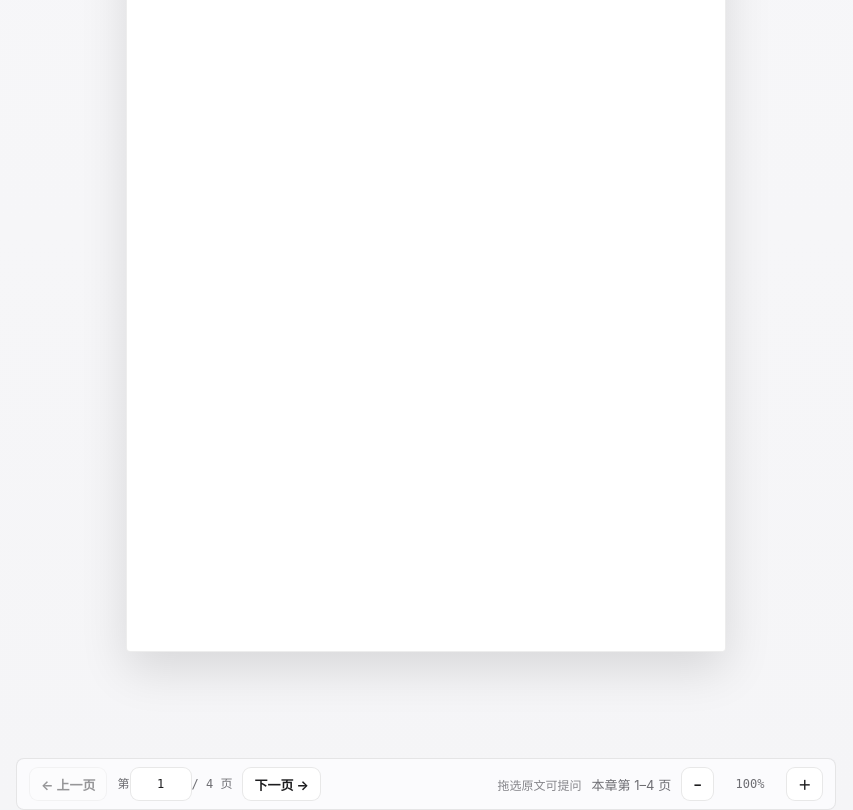
原版 PDF 阅读面 › 缩放按钮改比例并记在本地
(page scrolled)
Expected: the text "100%" is shown, [736,777,764,791]
Click the button named "放大" at (804, 784), box [786,767,823,801]
(page scrolled)
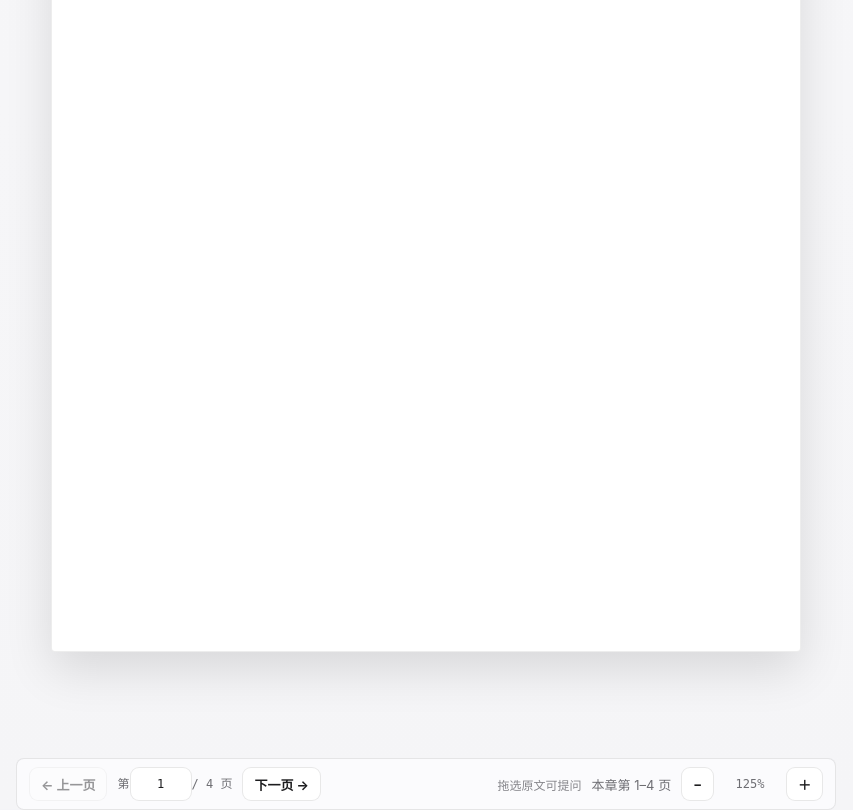
Expected: the text "125%" is shown, [736,777,764,791]
